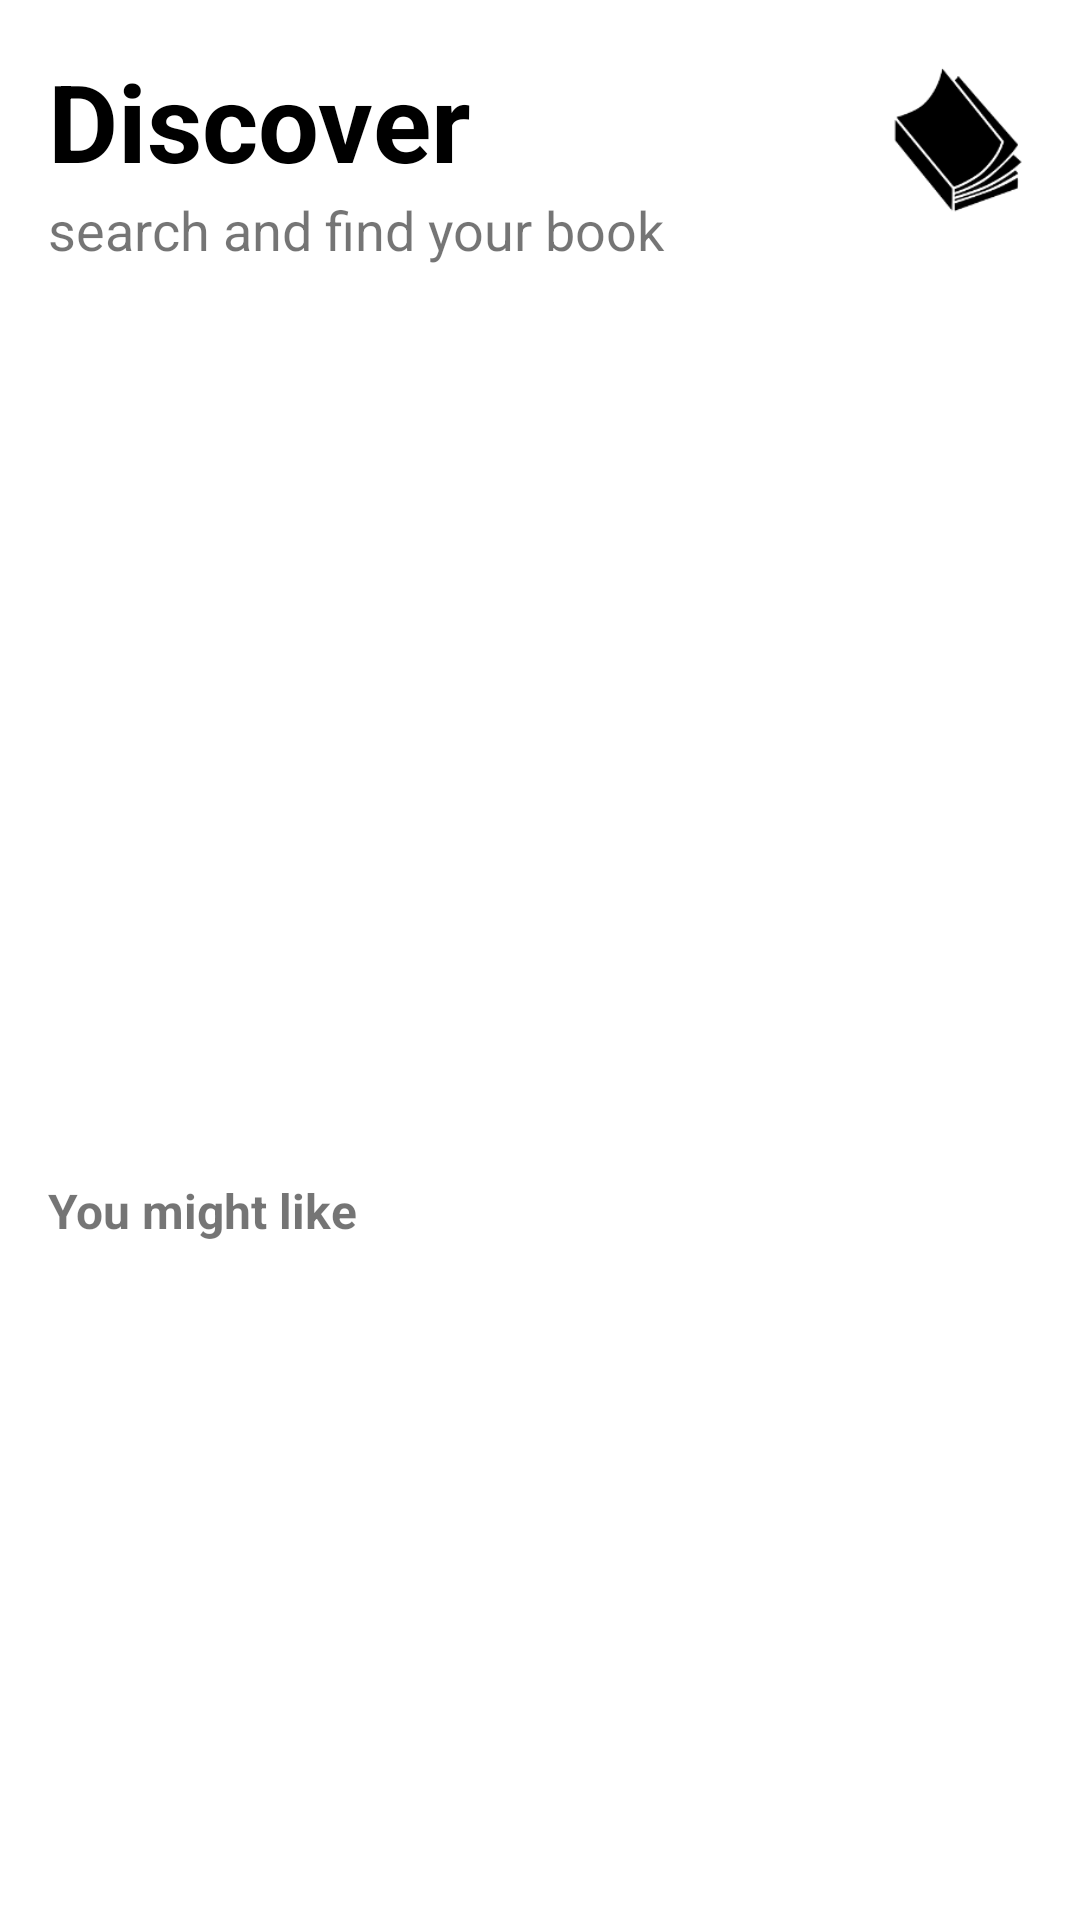

Screen size 1080×1920. Icon name, then its center in pixels as (x=x, y=y):
sourcbooks: (x=958, y=140)
